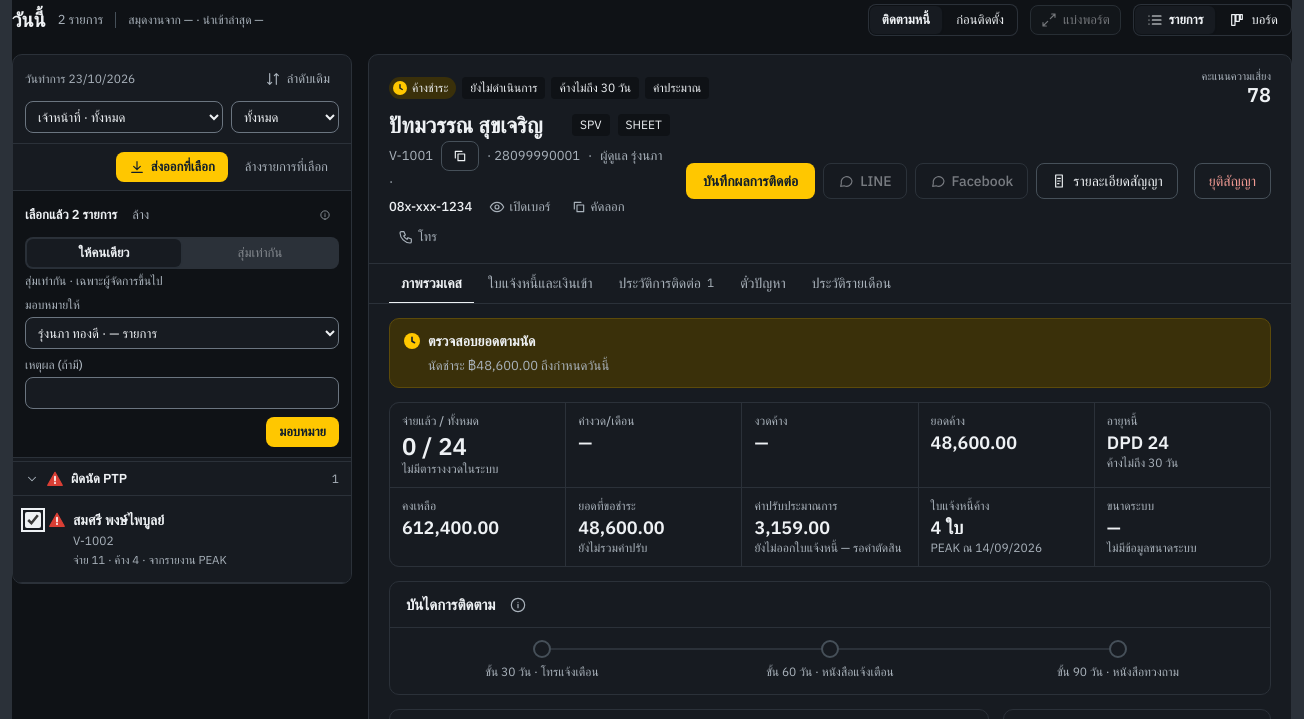
Today bulk assignment (F10) › assigns the ticked rows to one officer in one request and reloads
Earlier steps of the test are not shown.
(page scrolled)
Expected: the text "เลือกแล้ว 2 รายการ" is shown, [25, 205, 117, 225]
Type "แบ่งงานเช้า" into the field labelled "เหตุผล (ถ้ามี)". click: [182, 393]
box: [25, 377, 339, 409]
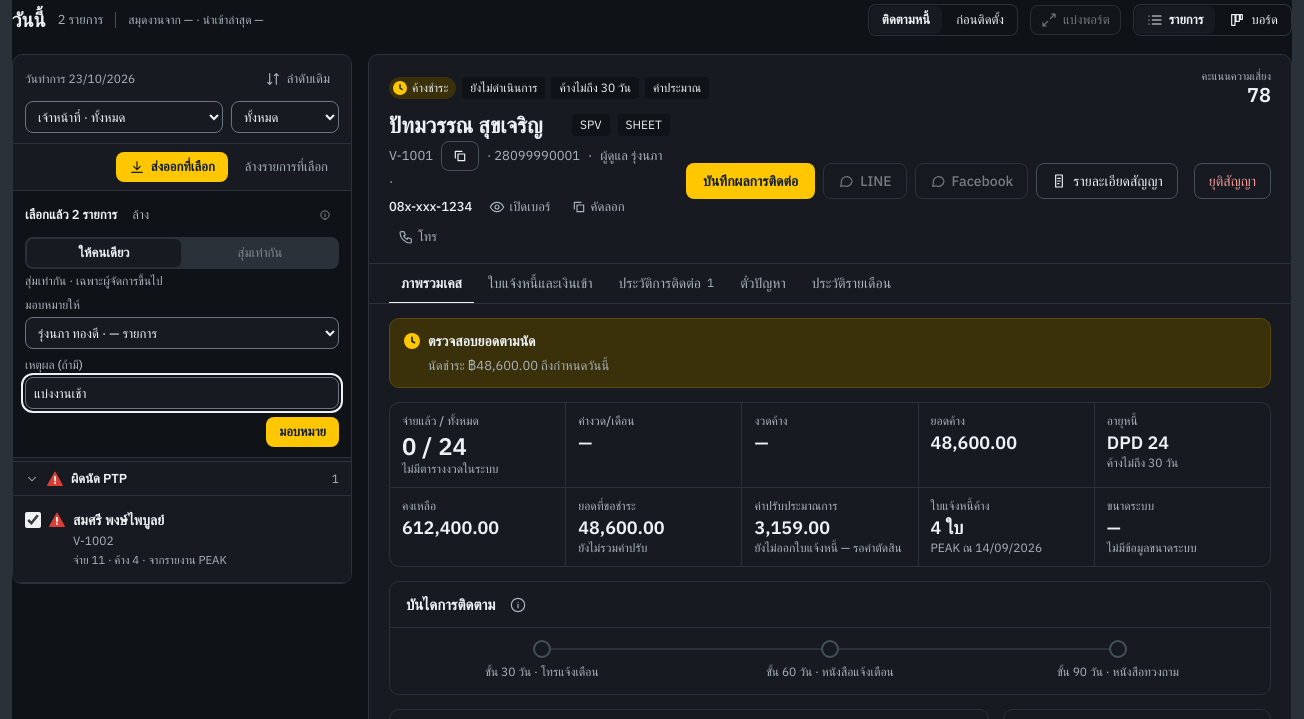
Click the button "มอบหมาย". click: [303, 432]
box: [266, 417, 339, 447]
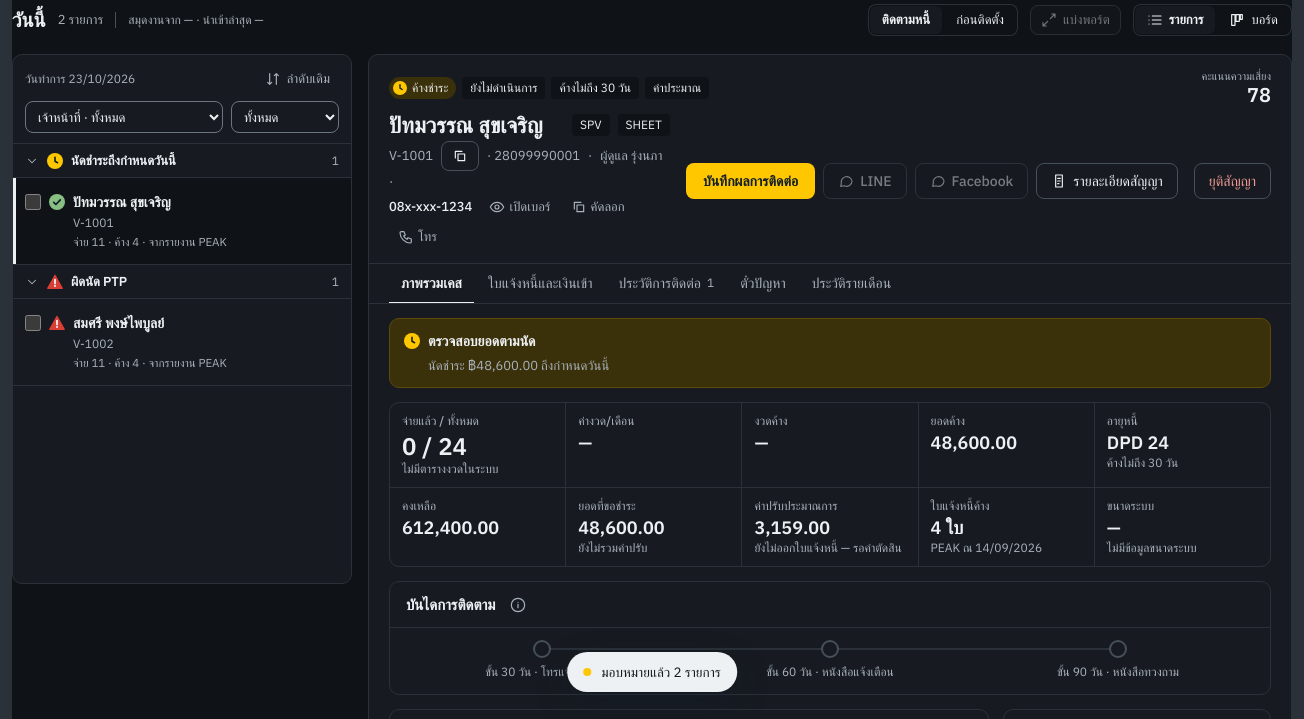
Now the text "เลือกแล้ว 2 รายการ" is gone
